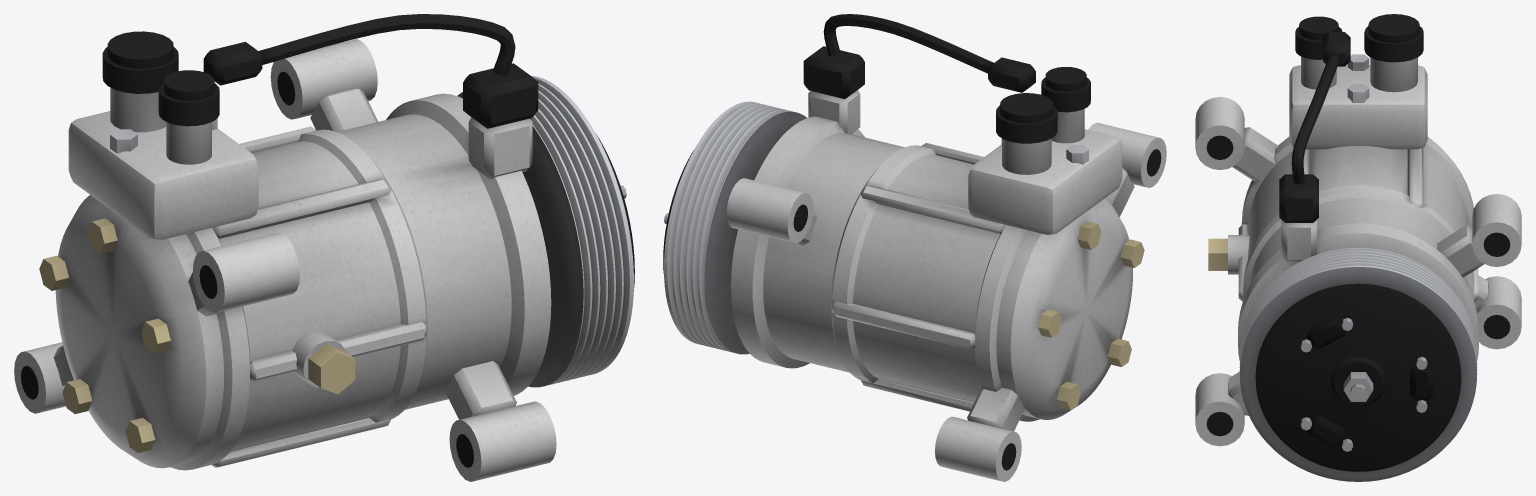
Rendered from ac_compressor-hi-v1.glb.
3 views of the same model, side by side, from view 1: azimuth 30°, elevation 25°; view 2: azimuth 150°, elevation 25°; view 3: azimuth 270°, elevation 25° (orthographic). The views are drawn at different scales.
Parts seen in each view (by area): view 1: body, manifold, pulley; view 2: body, manifold, pulley; view 3: body, clutch_plate, manifold, pulley.
Part boxes in pixels (left/top/right/bottom): body: left=14, top=14, right=556, bottom=481; manifold: left=68, top=31, right=258, bottom=239; pulley: left=457, top=75, right=633, bottom=387; body: left=726, top=14, right=1166, bottom=481; manifold: left=968, top=67, right=1122, bottom=234; pulley: left=664, top=101, right=806, bottom=354; body: left=1195, top=32, right=1521, bottom=446; clutch_plate: left=1255, top=283, right=1461, bottom=471; manifold: left=1289, top=14, right=1427, bottom=149; pulley: left=1239, top=248, right=1477, bottom=481.
Size of the model in its own units: 0.23 by 0.1804 by 0.165.
9 materials, 1 textured.
